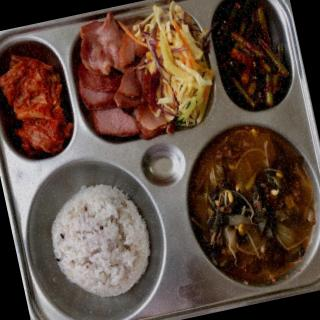Nasi: (42, 178, 158, 311)
